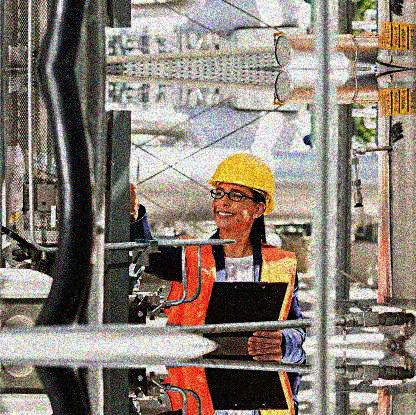helmet: (207, 151, 277, 234)
